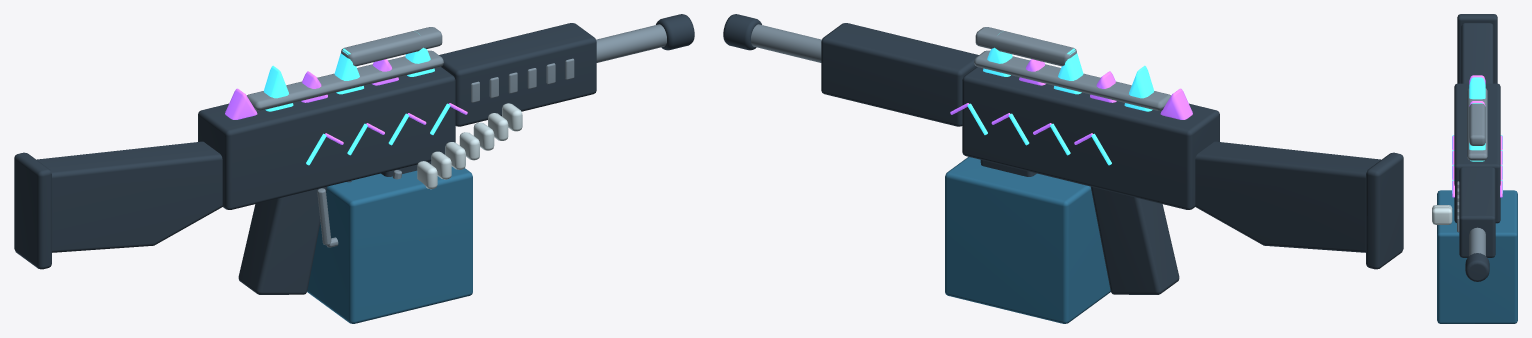
The model's file is negev.glb.
3 renders of one model, left to right at view 1: azimuth 30°, elevation 25°; view 2: azimuth 150°, elevation 25°; view 3: azimuth 270°, elevation 25°, orthographic. The views are drawn at different scales.
Visible parts, largest first — view 1: Receiver.006, Belt box, Shoulder stock.007, Handguard.002, Pistol grip.008, Butt pad.007, Sight rail.002, Carry handle.001, Barrel.008, Muzzle.008, Ice crest.013, Ice crest.012 (+2 smaller); view 2: Belt box, Receiver.006, Shoulder stock.007, Handguard.002, Pistol grip.008, Butt pad.007, Sight rail.002, Carry handle.001, Barrel.008, Muzzle.008, Ice crest.013, Ice crest.012 (+1 smaller); view 3: Belt box, Receiver.006, Handguard.002, Shoulder stock.007, Butt pad.007, Carry handle.001, Sight rail.002, Muzzle.008, Barrel.008, Ice crest.013, Belt links.006, Ice crest.017.
Boxes of the visible parts, x1,y1,x2,y2 form: Receiver.006: [198, 67, 455, 209]; Belt box: [307, 166, 472, 323]; Shoulder stock.007: [37, 141, 222, 252]; Handguard.002: [439, 23, 596, 126]; Pistol grip.008: [238, 186, 327, 294]; Butt pad.007: [14, 152, 51, 269]; Sight rail.002: [247, 50, 443, 110]; Carry handle.001: [341, 27, 442, 66]; Barrel.008: [596, 24, 666, 62]; Muzzle.008: [656, 14, 694, 50]; Ice crest.013: [264, 65, 293, 111]; Ice crest.012: [225, 88, 257, 119]; Belt box: [945, 157, 1110, 323]; Receiver.006: [962, 67, 1219, 209]; Shoulder stock.007: [1195, 141, 1380, 252]; Handguard.002: [821, 23, 978, 126]; Pistol grip.008: [1090, 186, 1179, 294]; Butt pad.007: [1366, 152, 1403, 269]; Sight rail.002: [974, 50, 1170, 110]; Carry handle.001: [975, 27, 1076, 66]; Barrel.008: [751, 24, 821, 62]; Muzzle.008: [723, 14, 761, 50]; Ice crest.013: [1124, 65, 1153, 111]; Ice crest.012: [1160, 88, 1192, 119]; Belt box: [1437, 190, 1517, 323]; Receiver.006: [1454, 83, 1500, 223]; Handguard.002: [1459, 167, 1495, 257]; Shoulder stock.007: [1461, 23, 1493, 83]; Butt pad.007: [1457, 14, 1497, 83]; Carry handle.001: [1469, 103, 1485, 145]; Sight rail.002: [1467, 88, 1487, 160]; Muzzle.008: [1465, 253, 1489, 281]; Barrel.008: [1469, 227, 1485, 255]; Ice crest.013: [1469, 77, 1485, 99]; Belt links.006: [1432, 208, 1452, 224]; Ice crest.017: [1469, 143, 1485, 161].
Size of the model in its own units: 5.62 by 2.03 by 0.85.
